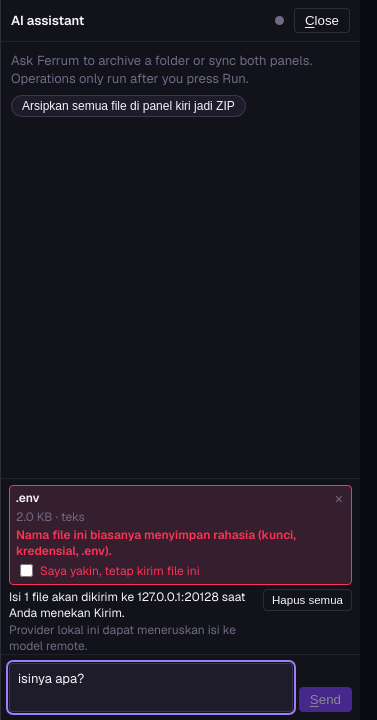
ChatPanel attachments (FER-486) › a sensitive chip shows a red warning and Send stays disabled until ticked
The image size is (377, 720).
Expected: the message shows "rahasia", [16,527,296,559]
Expected: the button "Send" is disabled, [299,687,352,712]
Click the checkbox with test id "attachment-confirm". click: (26, 571)
box: [20,564,33,577]
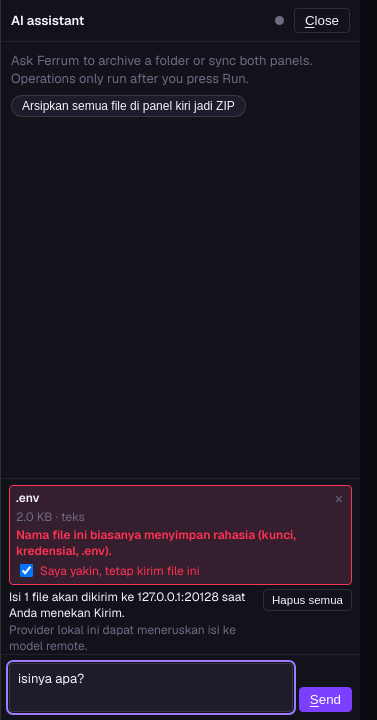
Expected: the button "Send" is enabled, [299,687,352,712]
